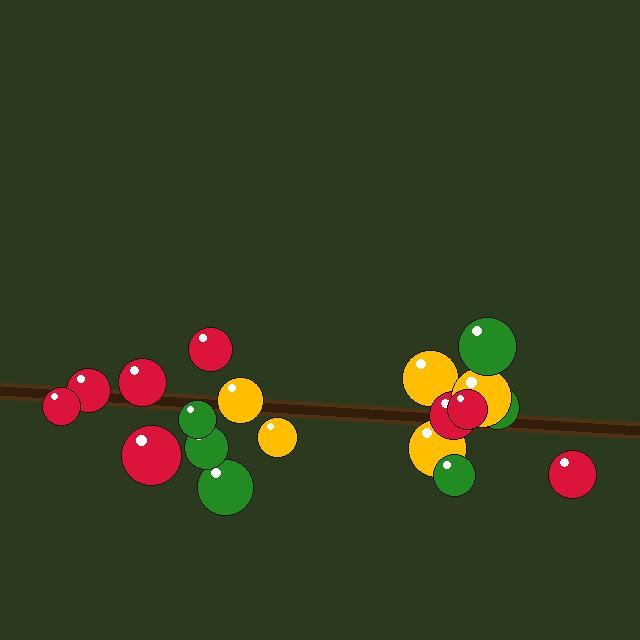Ripe: (121, 425, 181, 485), (429, 391, 477, 439), (118, 358, 166, 406), (548, 450, 596, 498), (66, 368, 110, 412), (188, 327, 232, 371), (447, 389, 487, 429), (42, 387, 80, 425)
Ripening: (451, 367, 511, 427), (408, 419, 466, 477), (402, 350, 458, 406), (217, 377, 263, 423), (257, 417, 297, 457)
Unripe: (458, 317, 516, 375), (197, 459, 253, 515), (475, 385, 519, 429), (184, 425, 228, 469), (433, 454, 475, 496), (178, 400, 216, 438)
